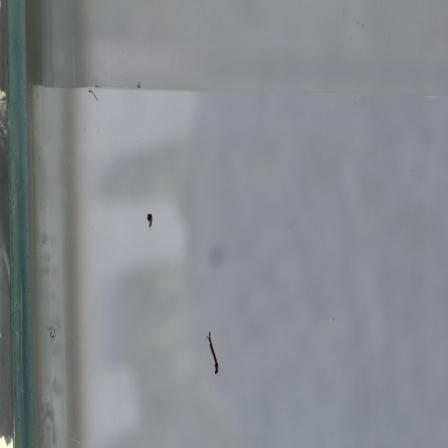Jentik-Nyamuk: (202, 328, 222, 378), (142, 206, 157, 233)
